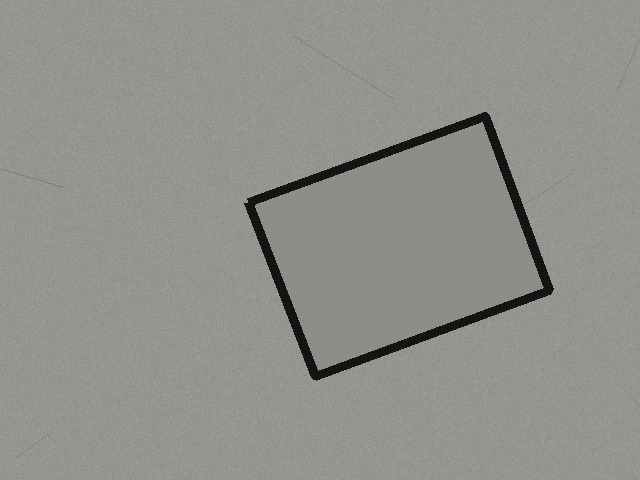parking_area: (248, 116, 549, 376)
